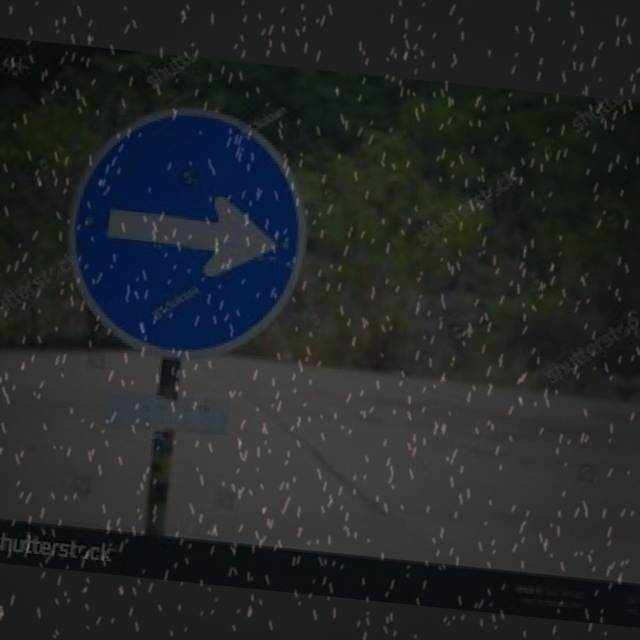Compulsory_Turn_Right: (66, 96, 319, 370)
